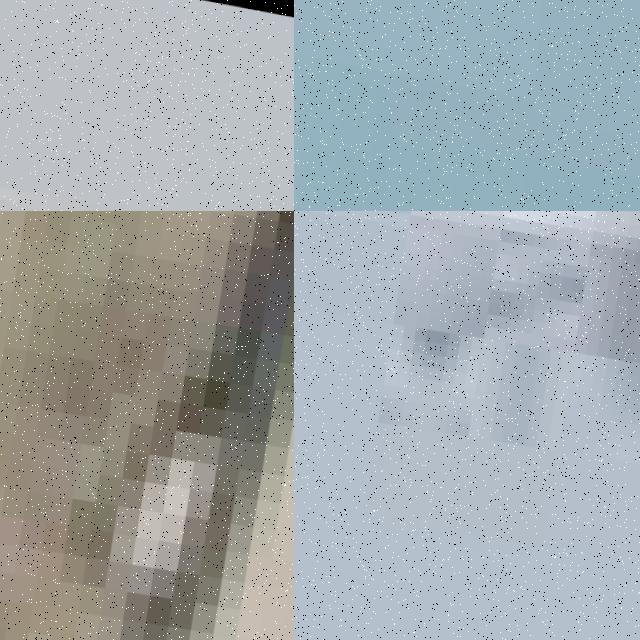0: (0, 0, 294, 211)
drone: (294, 0, 640, 211)
